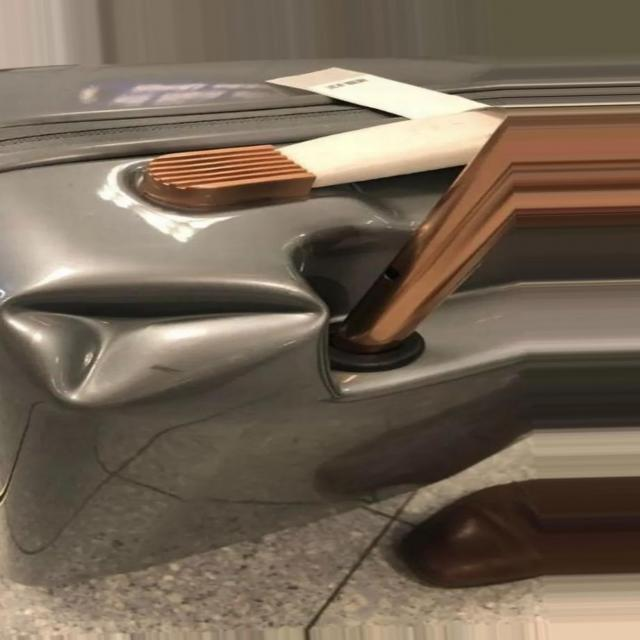Damage-bag: (0, 275, 326, 406)
